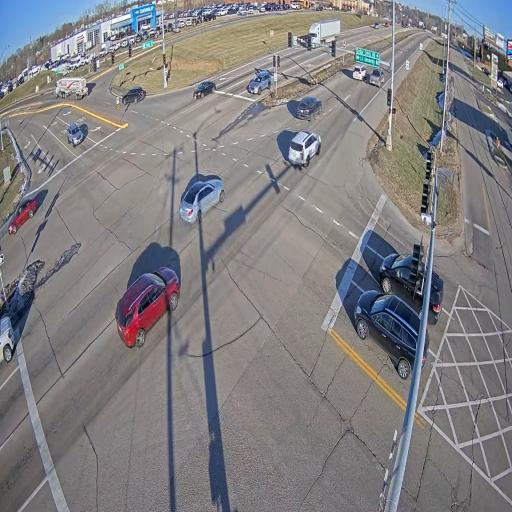sedan: (9, 199, 37, 234), (297, 97, 321, 121), (193, 81, 216, 99)
suv: (354, 290, 421, 379), (115, 266, 180, 347), (378, 253, 425, 315), (288, 131, 321, 166), (428, 271, 443, 324), (247, 70, 273, 95), (122, 86, 146, 105), (67, 123, 84, 147), (373, 23, 379, 29), (384, 22, 389, 27)
truck: (309, 18, 341, 47), (55, 77, 89, 100), (369, 68, 384, 88)
van: (352, 64, 366, 81)
